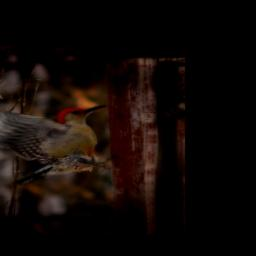Woodpecker: (0, 103, 108, 185)
